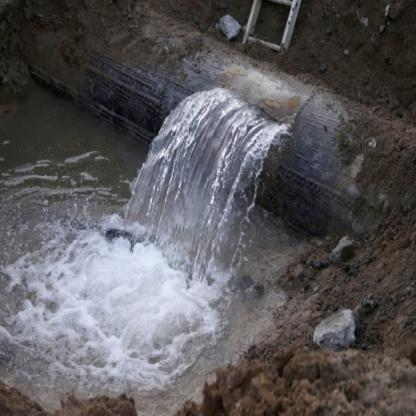burst: (196, 85, 293, 142)
